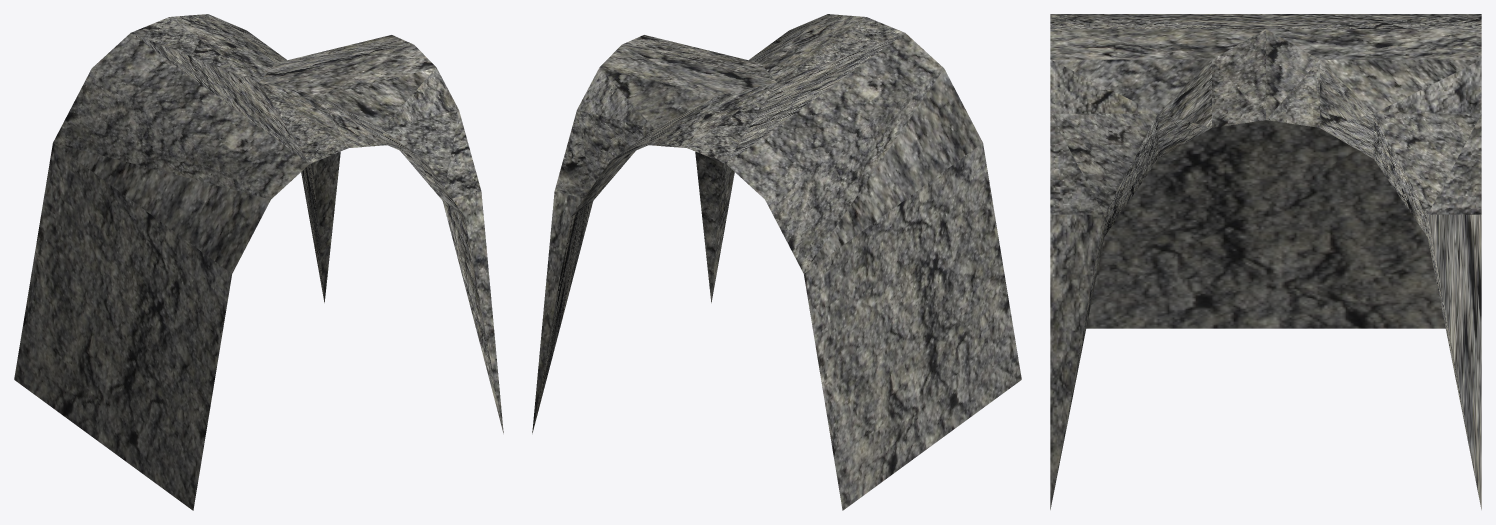
The model's file is Stone3a.obj.
The picture shows the model from 3 angles, left to right: view 1: azimuth 30°, elevation 25°; view 2: azimuth 150°, elevation 25°; view 3: azimuth 270°, elevation 25°; orthographic projection. The views are drawn at different scales.
Visible parts, largest first — view 1: Grid_Grid.007_Grid_Grid.030; view 2: Grid_Grid.007_Grid_Grid.030; view 3: Grid_Grid.007_Grid_Grid.030.
Part boxes in pixels (box(x1,y1,x2,y2)): Grid_Grid.007_Grid_Grid.030: box(14, 14, 503, 510); Grid_Grid.007_Grid_Grid.030: box(532, 14, 1021, 510); Grid_Grid.007_Grid_Grid.030: box(1050, 14, 1481, 509).
Bounding box in the file's own units: 1 × 1 × 1.
